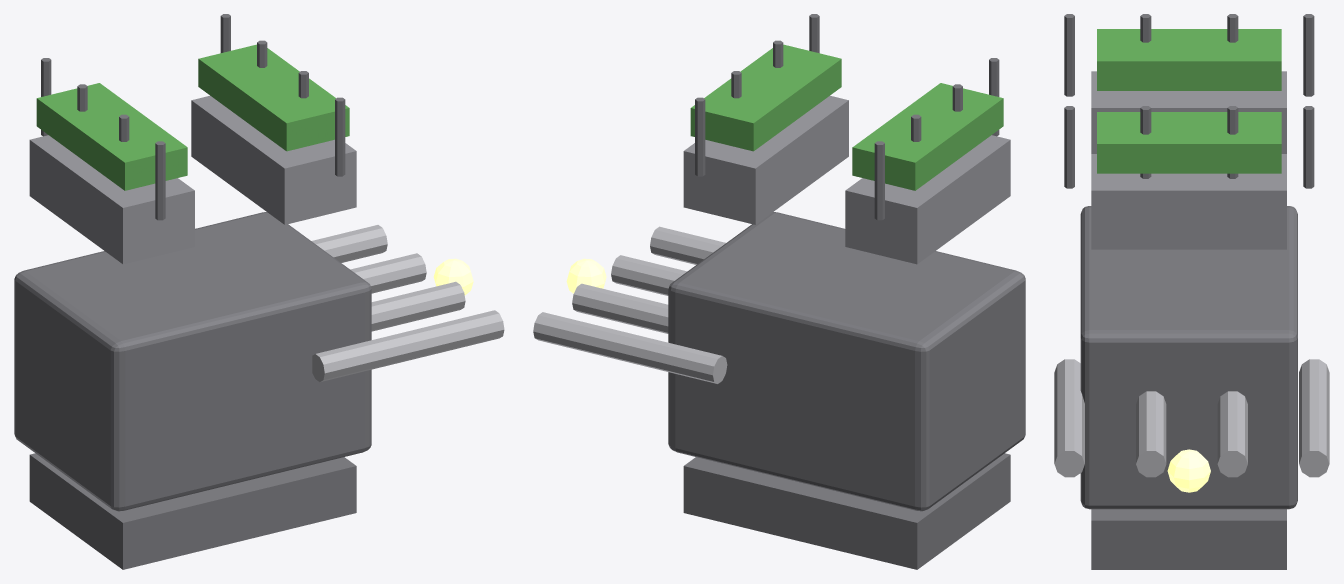
The model's file is v8_engine.fbx.
The picture shows the model from 3 angles, left to right: view 1: azimuth 30°, elevation 25°; view 2: azimuth 150°, elevation 25°; view 3: azimuth 270°, elevation 25°; orthographic projection. The views are drawn at different scales.
Visible parts, largest first — view 1: V8_Block, V8_Pan, V8_Head, V8_Head.001, V8_Cover.001, V8_Cover, V8_Pipe0, V8_Pipe1, V8_Pipe2, V8_Pipe3, V8_Hot, V8_Wire (+1 smaller); view 2: V8_Block, V8_Pan, V8_Head.001, V8_Head, V8_Cover.001, V8_Cover, V8_Pipe3, V8_Pipe2, V8_Pipe1, V8_Pipe0, V8_Hot, V8_Wire.003 (+1 smaller); view 3: V8_Block, V8_Head.001, V8_Pan, V8_Cover, V8_Cover.001, V8_Head, V8_Pipe3, V8_Pipe0, V8_Pipe1, V8_Pipe2, V8_Hot, V8_Wire.003 (+5 smaller).
Boxes of the visible parts, left/top/right/bottom form: V8_Block: left=14, top=212, right=371, bottom=511; V8_Pan: left=29, top=453, right=356, bottom=569; V8_Head: left=29, top=135, right=194, bottom=264; V8_Head.001: left=191, top=95, right=356, bottom=224; V8_Cover.001: left=198, top=44, right=349, bottom=151; V8_Cover: left=36, top=83, right=187, bottom=190; V8_Pipe0: left=312, top=310, right=504, bottom=381; V8_Pipe1: left=371, top=281, right=465, bottom=331; V8_Pipe2: left=350, top=253, right=426, bottom=293; V8_Pipe3: left=311, top=225, right=387, bottom=262; V8_Hot: left=433, top=258, right=473, bottom=295; V8_Wire: left=155, top=141, right=165, bottom=220; V8_Block: left=668, top=212, right=1025, bottom=511; V8_Pan: left=683, top=453, right=1010, bottom=569; V8_Head.001: left=683, top=95, right=848, bottom=224; V8_Head: left=845, top=135, right=1010, bottom=264; V8_Cover.001: left=690, top=44, right=841, bottom=151; V8_Cover: left=852, top=83, right=1003, bottom=190; V8_Pipe3: left=533, top=312, right=727, bottom=383; V8_Pipe2: left=572, top=283, right=668, bottom=333; V8_Pipe1: left=611, top=255, right=686, bottom=295; V8_Pipe0: left=650, top=226, right=725, bottom=264; V8_Hot: left=566, top=258, right=606, bottom=293; V8_Wire.003: left=874, top=141, right=884, bottom=220; V8_Block: left=1080, top=206, right=1297, bottom=509; V8_Head.001: left=1091, top=154, right=1286, bottom=249; V8_Pan: left=1091, top=509, right=1286, bottom=569; V8_Cover: left=1097, top=29, right=1281, bottom=90; V8_Cover.001: left=1097, top=112, right=1281, bottom=173; V8_Head: left=1091, top=71, right=1286, bottom=153; V8_Pipe3: left=1299, top=359, right=1329, bottom=477; V8_Pipe0: left=1054, top=359, right=1084, bottom=477; V8_Pipe1: left=1136, top=391, right=1166, bottom=477; V8_Pipe2: left=1217, top=391, right=1247, bottom=477; V8_Hot: left=1167, top=449, right=1210, bottom=492; V8_Wire.003: left=1303, top=14, right=1314, bottom=96.
Bounding box in the file's own units: 91 × 91 × 50.6.
